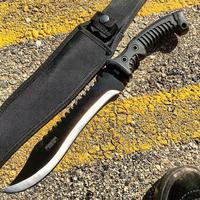knife: (2, 8, 190, 194)
